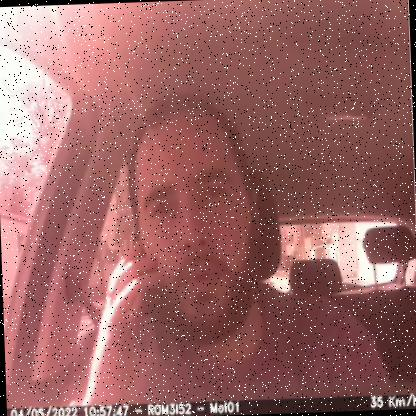phone: (121, 235, 179, 354)
